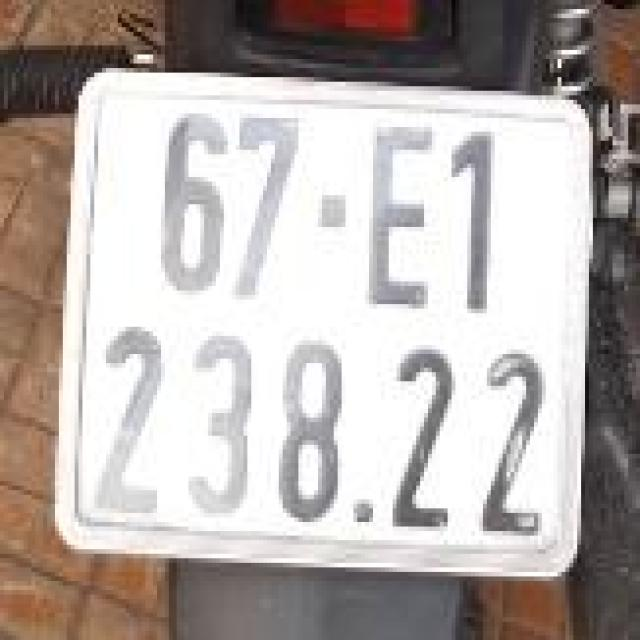1: (446, 116, 508, 315)
2: (477, 308, 563, 536), (84, 311, 163, 538), (383, 308, 457, 526)
3: (181, 316, 263, 524)
6: (147, 102, 238, 307)
7: (230, 90, 308, 308)
8: (279, 334, 361, 528)
E: (355, 111, 438, 320)
